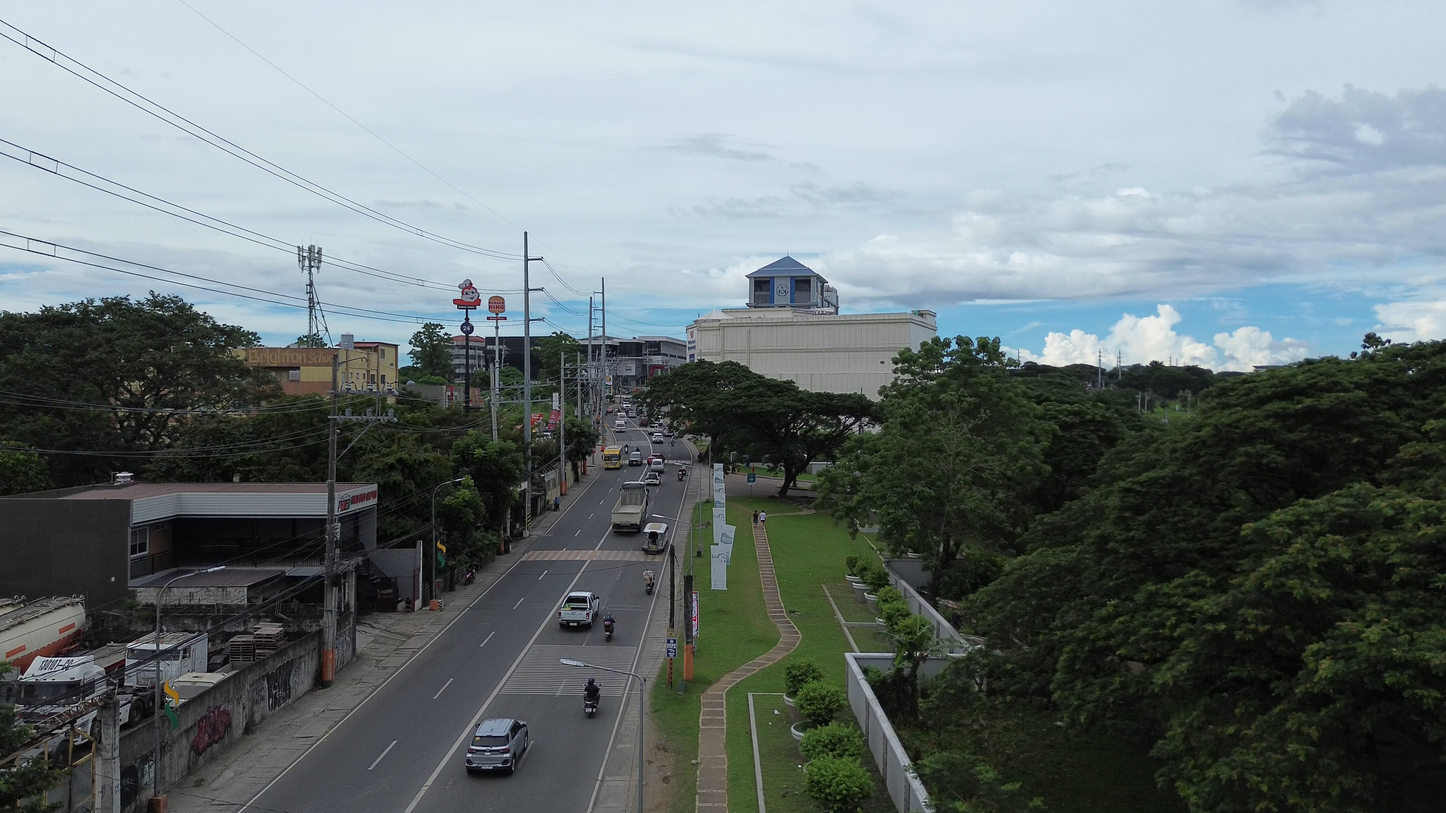bus: (603, 446, 621, 469)
car: (465, 718, 529, 773), (628, 451, 644, 466), (663, 428, 675, 438)
motorcycle: (643, 570, 655, 595), (584, 697, 598, 717), (603, 619, 614, 641), (677, 467, 685, 480)
vehicle: (15, 654, 111, 723), (0, 597, 85, 673), (159, 633, 207, 681), (611, 481, 650, 531), (169, 673, 233, 703), (558, 591, 600, 628), (641, 522, 668, 553), (648, 455, 665, 475), (603, 615, 615, 641), (643, 570, 655, 595), (642, 470, 660, 486), (585, 697, 598, 718), (628, 450, 643, 466), (614, 417, 627, 431), (650, 432, 664, 444)
